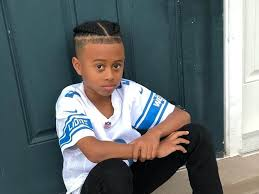person: (70, 20, 126, 98)
